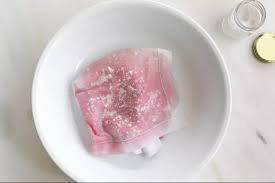oil: (78, 66, 176, 145)
